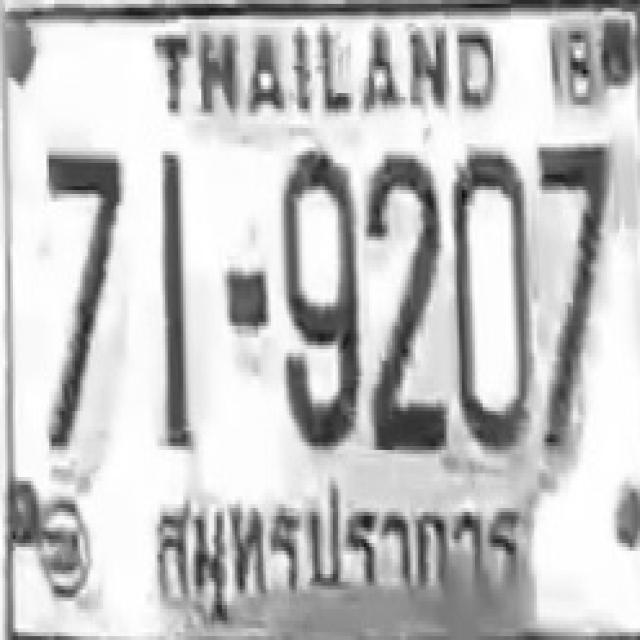0: (452, 147, 532, 454)
1: (160, 151, 191, 450)
2: (366, 151, 442, 442)
7: (44, 145, 121, 452), (536, 142, 610, 460)
9: (281, 147, 359, 450)
SPK: (145, 474, 542, 628)
